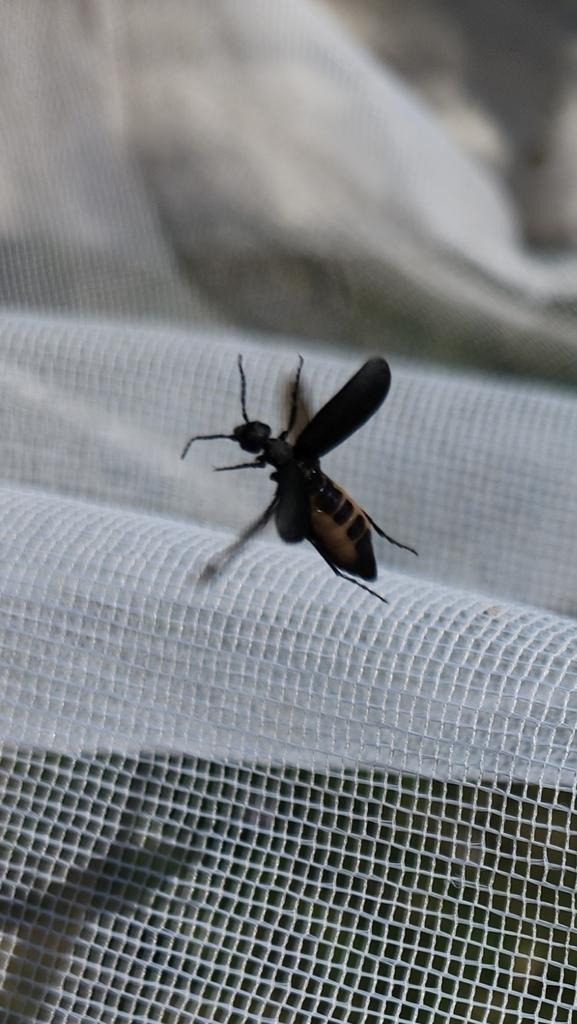blister_beetle: (133, 306, 430, 638)
